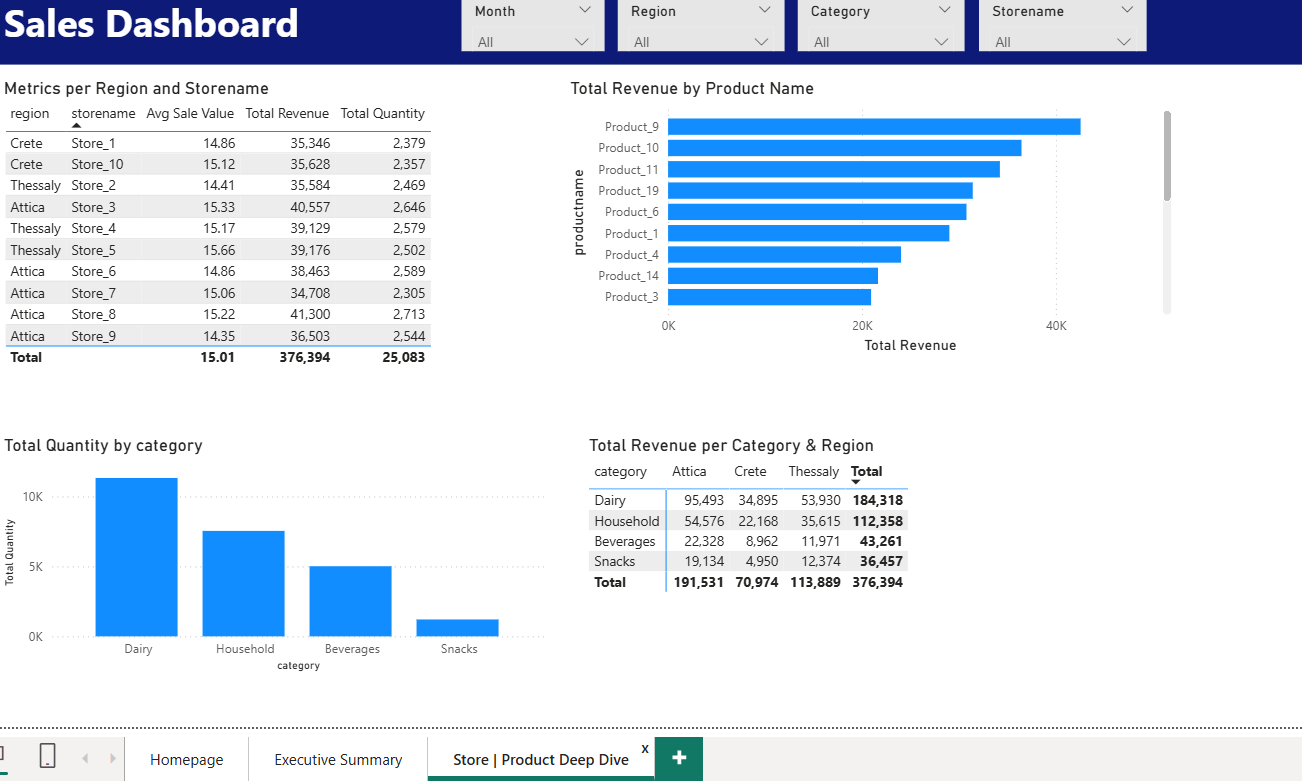

This screenshot's page, from the dashboard's own definition file:
{"tool":"powerbi","page":{"name":"Store | Product Deep Dive","canvas":[1280,720],"ordinal":2},"visuals":[{"type":"tableEx","title":"Metrics per Region and Storename","fields":{"Values":["public dimstore.region","public dimstore.storename","public factsales.Avg Sale Value","public factsales.Total Revenue","public factsales.Total Quantity"]},"box":[0,84.4,598,313],"z":0},{"type":"barChart","title":"Total Revenue by Product Name","fields":{"Category":["public dimproduct.productname"],"Y":["public factsales.Total Revenue"]},"box":[553.9,84.4,598,275.1],"z":1000},{"type":"clusteredColumnChart","title":"Total Quantity by category","fields":{"Category":["public dimproduct.category"],"Y":["public factsales.Total Quantity"]},"box":[0,434.1,539.3,237.2],"z":2000},{"type":"pivotTable","title":"Total Revenue per Category & Region","fields":{"Rows":["public dimproduct.category"],"Columns":["public dimstore.region"],"Values":["public factsales.Total Revenue"]},"box":[572.3,434.1,353.4,161.4],"z":3000},{"type":"textbox","box":[0,0,1280,72.4],"z":4000},{"type":"slicer","fields":{"Values":["public dimdate.MonthName"]},"box":[452.4,6,139.9,53.1],"z":5000},{"type":"slicer","fields":{"Values":["public dimstore.region"]},"box":[605.6,6,162.9,53.1],"z":6000},{"type":"slicer","fields":{"Values":["public dimproduct.category"]},"box":[781.8,6,162.9,53.1],"z":7000},{"type":"slicer","fields":{"Values":["public dimstore.storename"]},"box":[959.1,6,164.1,53.1],"z":8000}]}

Visuals, with their boxes on the page's 1280x720 design canvas (x1, y1, x2, y2). These are canvas units, not pixel positions in the 1302x781 screenshot, which may show the page scaled, cropped or inside an application window:
"Metrics per Region and Storename" tableEx: bbox=(0, 84, 598, 397)
"Total Revenue by Product Name" barChart: bbox=(554, 84, 1152, 360)
"Total Quantity by category" clusteredColumnChart: bbox=(0, 434, 539, 671)
"Total Revenue per Category & Region" pivotTable: bbox=(572, 434, 926, 596)
textbox: bbox=(0, 0, 1280, 72)
slicer - public dimdate.MonthName: bbox=(452, 6, 592, 59)
slicer - public dimstore.region: bbox=(606, 6, 768, 59)
slicer - public dimproduct.category: bbox=(782, 6, 945, 59)
slicer - public dimstore.storename: bbox=(959, 6, 1123, 59)
